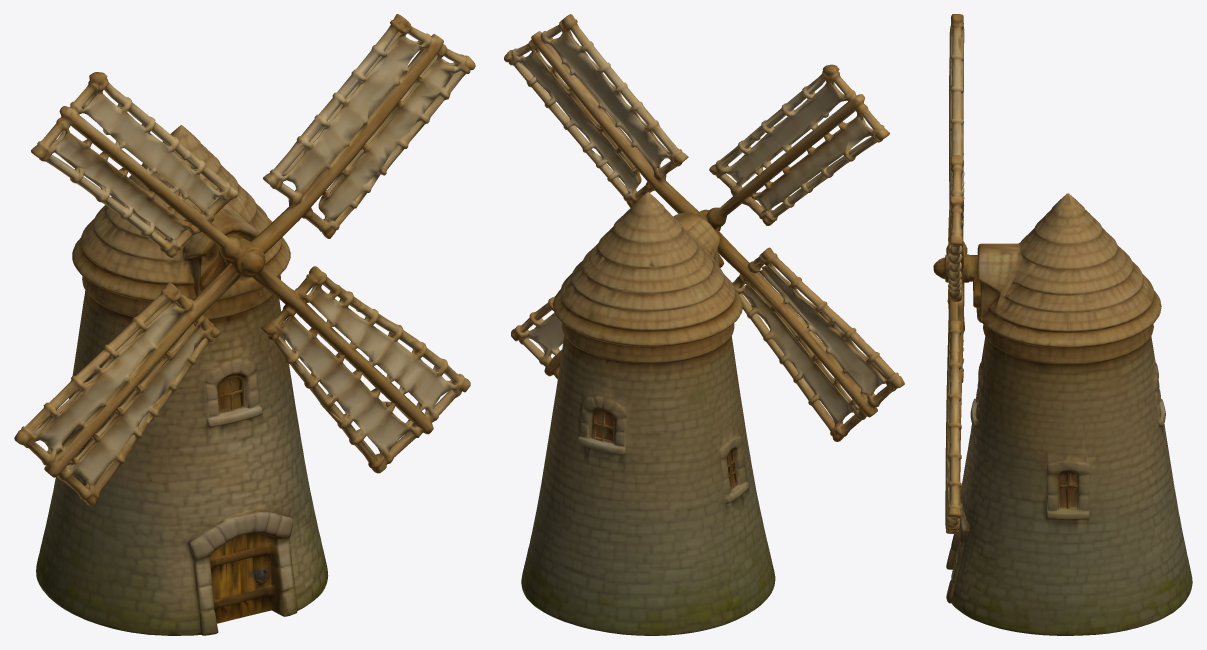
The model's file is windmill.glb.
3 renders of one model, left to right at view 1: azimuth 30°, elevation 25°; view 2: azimuth 150°, elevation 25°; view 3: azimuth 270°, elevation 25°, orthographic. The views are drawn at different scales.
Parts seen in each view (by area): view 1: material; view 2: material; view 3: material.
Boxes of the visible parts, x1=… form: material: x1=14, y1=14, x2=475, y2=635; material: x1=504, y1=14, x2=904, y2=635; material: x1=933, y1=14, x2=1192, y2=635.
Bounding box in the file's own units: 0.8188 × 0.9978 × 0.4626.
1 material, 1 textured.
